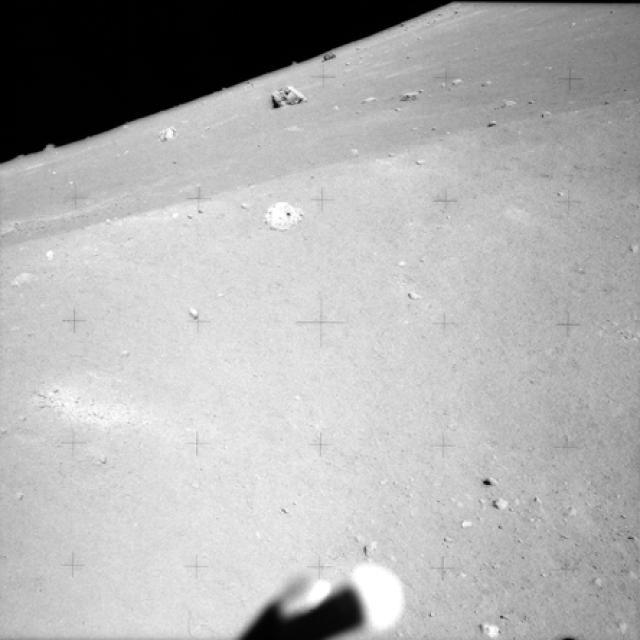rock: (252, 80, 310, 118), (151, 120, 185, 145), (397, 82, 428, 105)
